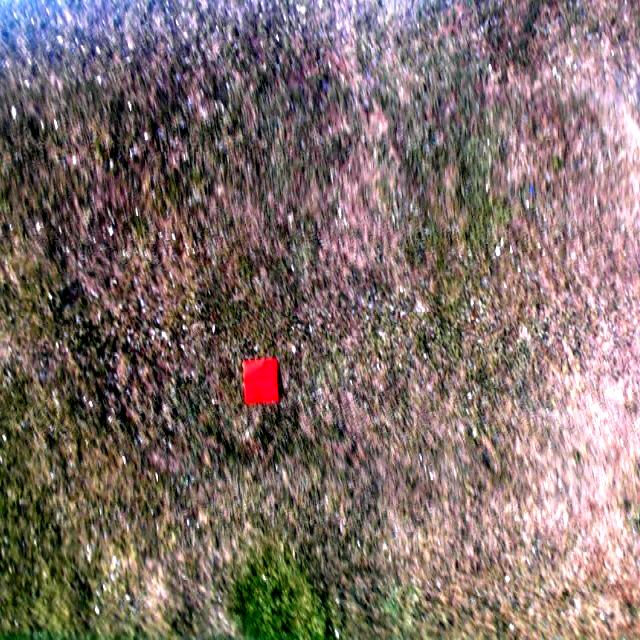red_square: (243, 358, 280, 403)
